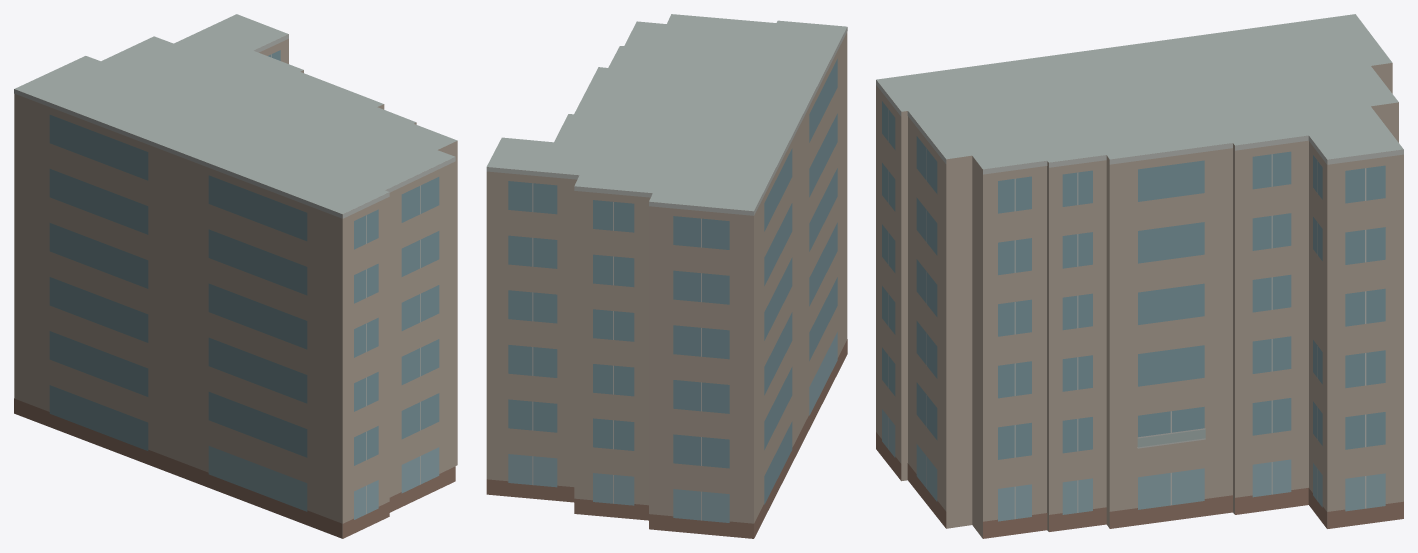
Rendered from survey-upis-32655076.glb.
The picture shows the model from 3 angles, left to right: view 1: azimuth 30°, elevation 25°; view 2: azimuth 150°, elevation 25°; view 3: azimuth 270°, elevation 25°; orthographic projection. The views are drawn at different scales.
Parts seen in each view (by area): view 1: survey-upis-32655076.tmp; view 2: survey-upis-32655076.tmp; view 3: survey-upis-32655076.tmp.
Part boxes in pixels (x1,y1,x2,y2): survey-upis-32655076.tmp: (14,14,457,538); survey-upis-32655076.tmp: (486,14,847,538); survey-upis-32655076.tmp: (876,14,1403,538).
Size of the model in its own units: 15.8 by 17.5 by 22.67.
